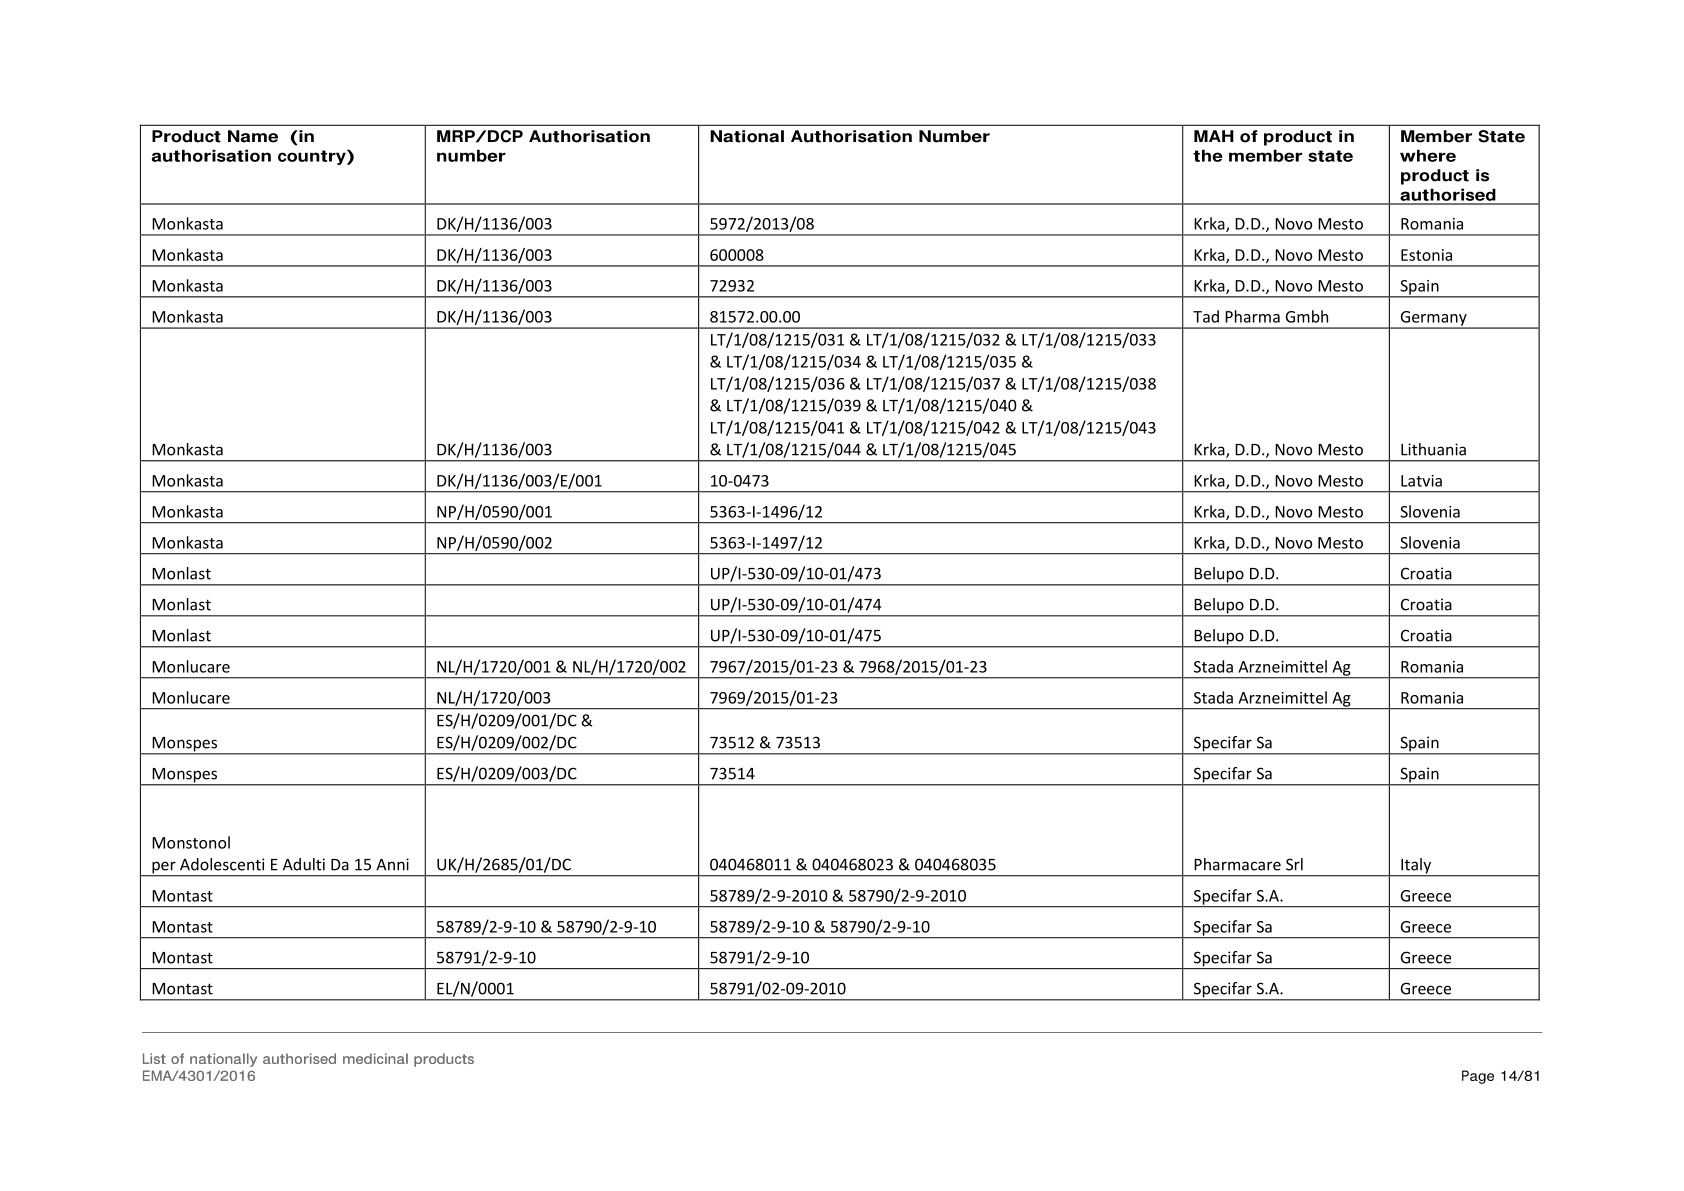full_lined: (139, 124, 1541, 1002)
